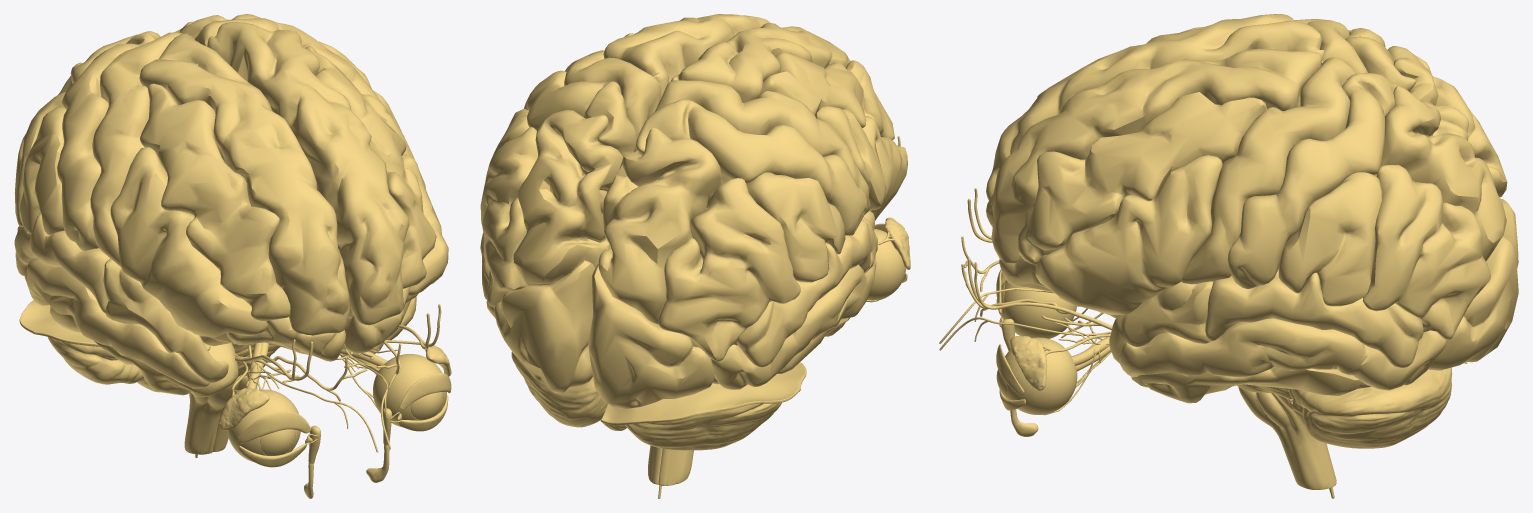
Rendered from nervous.glb.
The picture shows the model from 3 angles, left to right: view 1: azimuth 30°, elevation 25°; view 2: azimuth 150°, elevation 25°; view 3: azimuth 270°, elevation 25°; orthographic projection. The views are drawn at different scales.
Parts seen in each view (by area): view 1: FMA72653, FMA72654, FMA72655, FMA72657, FMA72661, FMA72665, FMA72685, FMA72656, FMA72800, FMA256194, FMA72667, FMA72804 (+20 smaller); view 2: FMA72669, FMA72671, FMA72672, FMA72975, FMA72665, FMA72976, FMA67944, FMA72653, FMA72670, FMA72667, FMA72661, FMA72654 (+12 smaller); view 3: FMA72654, FMA72656, FMA72658, FMA72670, FMA72686, FMA72666, FMA72662, FMA72653, FMA72668, FMA72672, FMA72805, FMA67944 (+12 smaller).
Boxes of the visible parts, left/top/right/bottom form: FMA72653: left=139, top=33, right=349, bottom=335; FMA72654: left=207, top=22, right=409, bottom=325; FMA72655: left=140, top=83, right=290, bottom=321; FMA72657: left=110, top=147, right=268, bottom=337; FMA72661: left=90, top=32, right=182, bottom=267; FMA72665: left=57, top=31, right=160, bottom=250; FMA72685: left=24, top=258, right=209, bottom=388; FMA72656: left=305, top=45, right=436, bottom=288; FMA72800: left=103, top=258, right=228, bottom=382; FMA256194: left=199, top=286, right=418, bottom=361; FMA72667: left=19, top=107, right=66, bottom=234; FMA72804: left=14, top=213, right=109, bottom=313; FMA72669: left=658, top=178, right=800, bottom=361; FMA72671: left=598, top=127, right=723, bottom=323; FMA72672: left=513, top=109, right=623, bottom=286; FMA72975: left=588, top=264, right=714, bottom=409; FMA72665: left=636, top=99, right=867, bottom=235; FMA72976: left=494, top=260, right=595, bottom=393; FMA67944: left=511, top=352, right=781, bottom=450; FMA72653: left=671, top=23, right=850, bottom=102; FMA72670: left=480, top=127, right=537, bottom=307; FMA72667: left=746, top=172, right=845, bottom=282; FMA72661: left=655, top=80, right=870, bottom=214; FMA72654: left=603, top=14, right=769, bottom=99; FMA72654: left=986, top=48, right=1323, bottom=263; FMA72656: left=1017, top=92, right=1266, bottom=264; FMA72658: left=1035, top=155, right=1222, bottom=314; FMA72670: left=1363, top=164, right=1491, bottom=339; FMA72686: left=1118, top=318, right=1446, bottom=390; FMA72666: left=1228, top=73, right=1396, bottom=288; FMA72662: left=1181, top=57, right=1356, bottom=284; FMA72653: left=986, top=14, right=1324, bottom=200; FMA72668: left=1278, top=172, right=1383, bottom=306; FMA72672: left=1374, top=86, right=1506, bottom=261; FMA72805: left=1205, top=269, right=1423, bottom=368; FMA67944: left=1289, top=367, right=1452, bottom=448.
Size of the model in its own units: 0.2877 by 0.351 by 0.3999.
